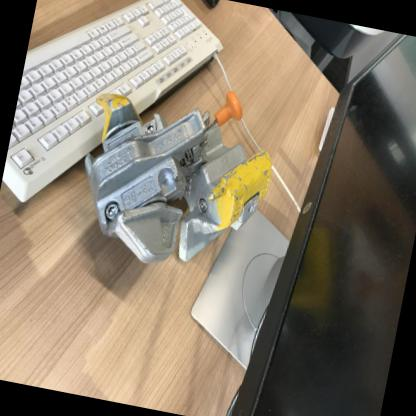Twistlock: (59, 54, 246, 277), (160, 100, 286, 292)
